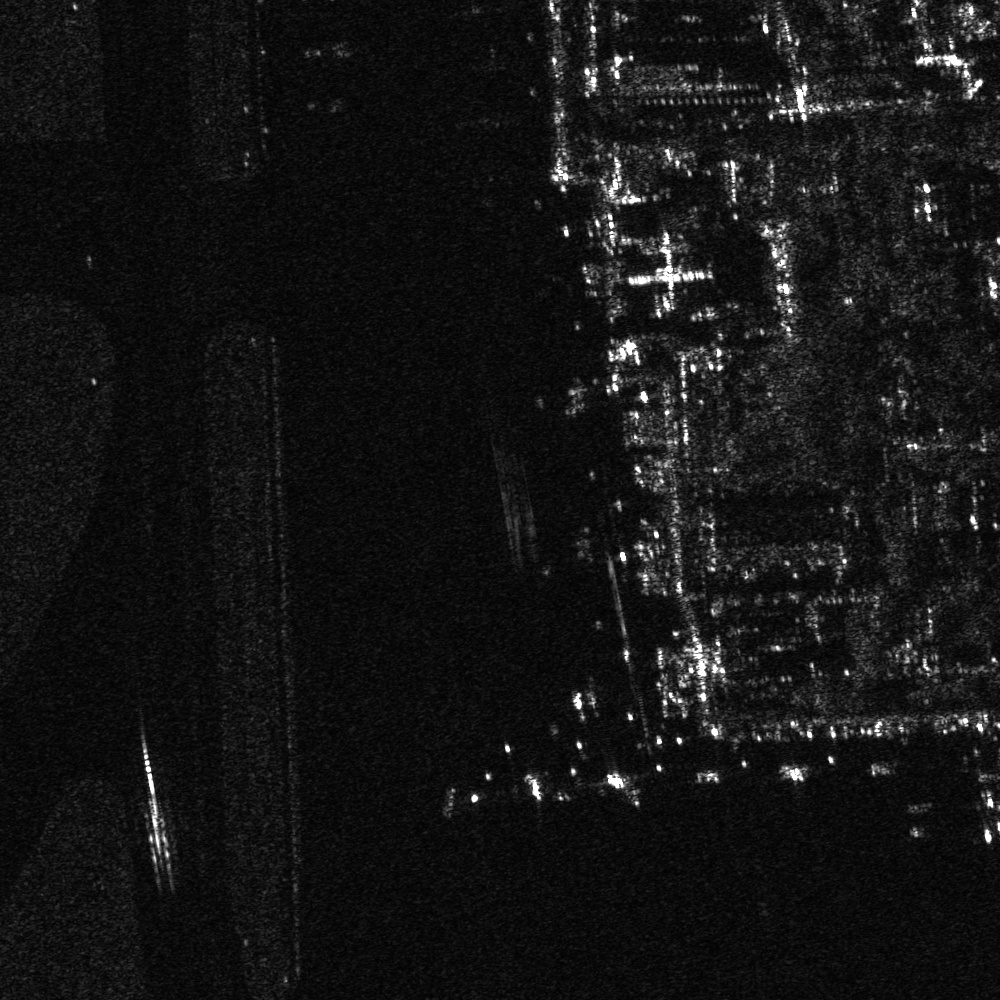ARJ21: (957, 766, 999, 846), (293, 37, 363, 66), (301, 90, 355, 119)
Boeing737: (589, 762, 655, 812)
